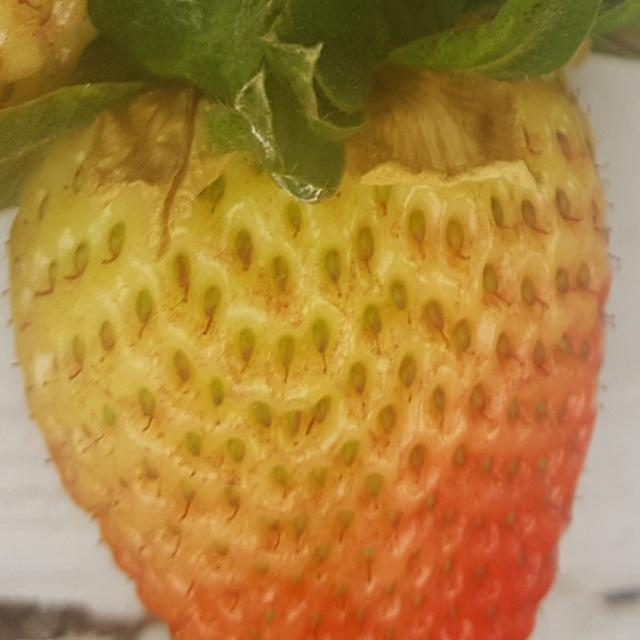Strawberry: (7, 63, 612, 638)
